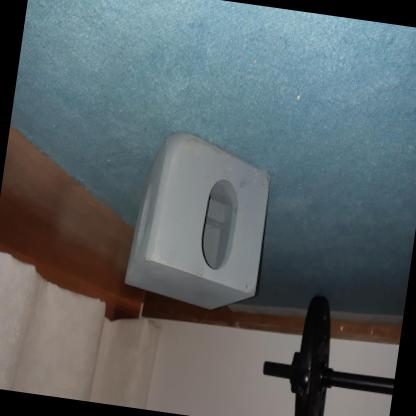CornerCasting: (121, 122, 278, 320)
